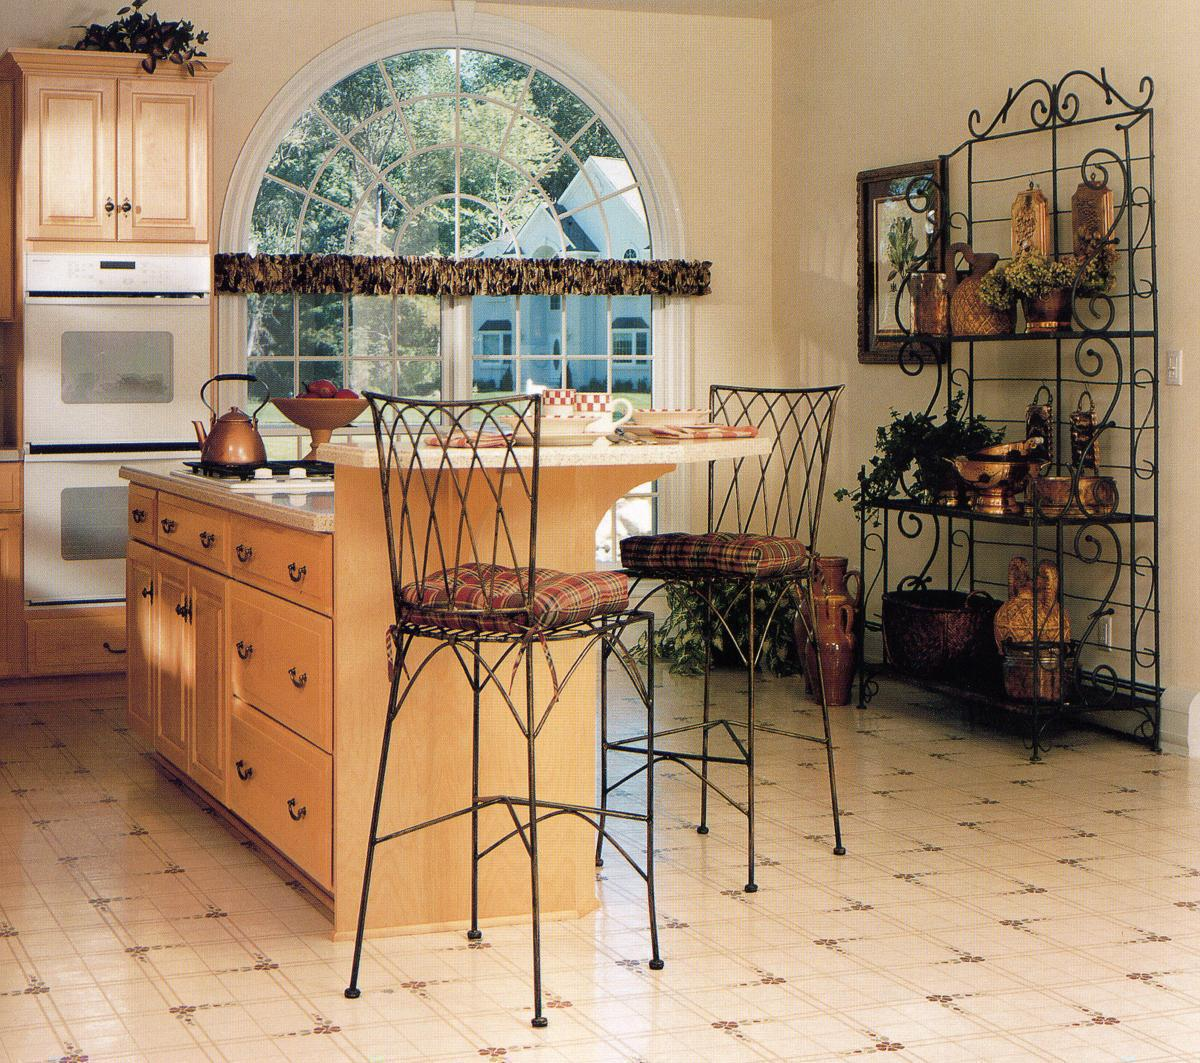Electrodomestico: (28, 265, 202, 600)
Matera: (665, 561, 799, 688)
Ventana: (242, 40, 677, 414)
